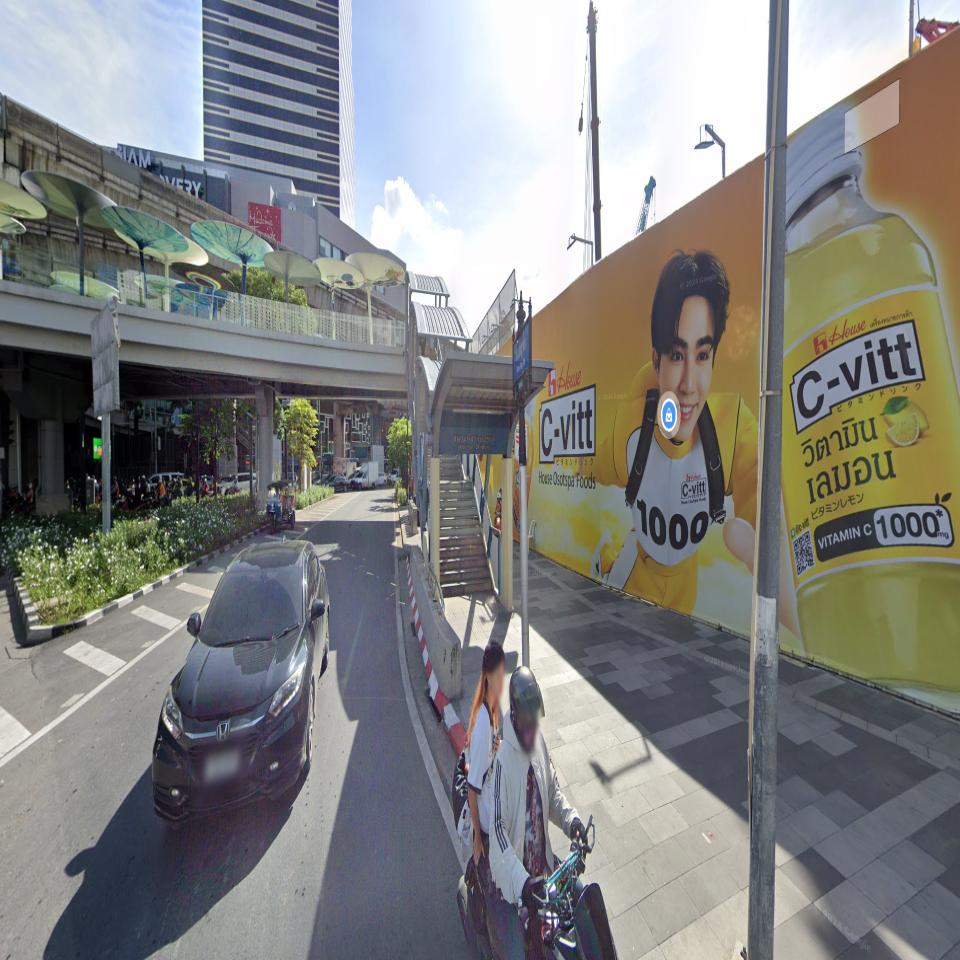National Stadium: (440, 426, 510, 452)
